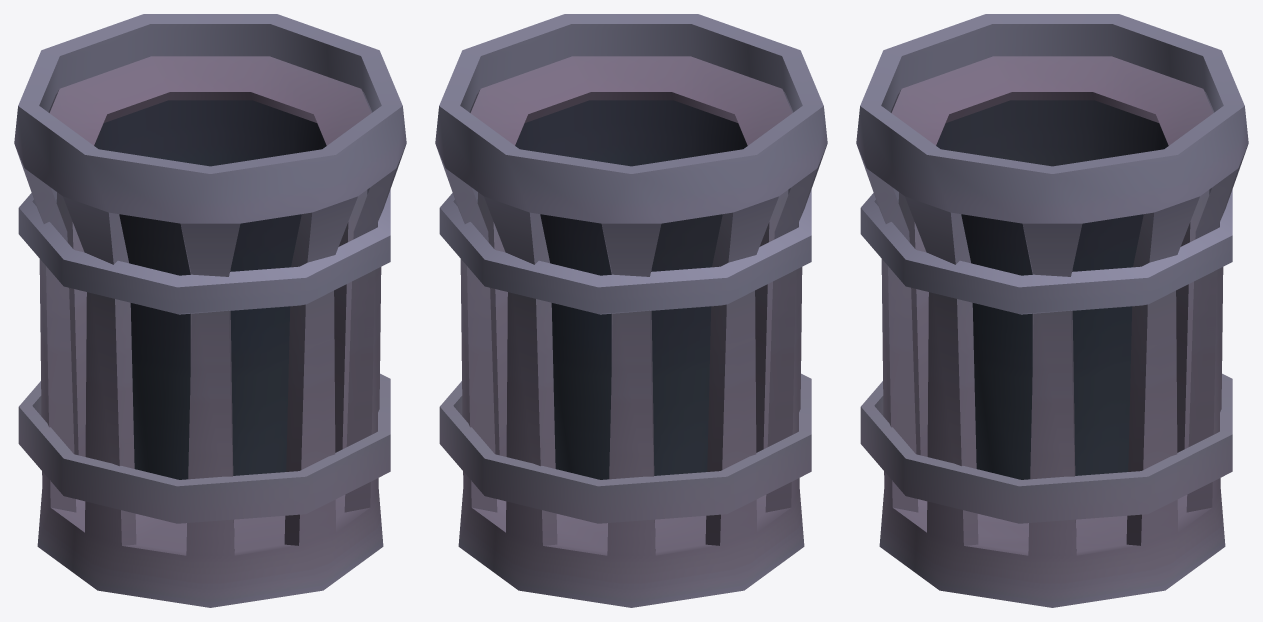
Rendered from Trashbin_1_B.fbx.
3 renders of one model, left to right at view 1: azimuth 30°, elevation 25°; view 2: azimuth 150°, elevation 25°; view 3: azimuth 270°, elevation 25°, orthographic.
Visible parts, largest first — view 1: Trashbin_1_B; view 2: Trashbin_1_B; view 3: Trashbin_1_B.
Part boxes in pixels (left/top/right/bottom): Trashbin_1_B: left=14, top=14, right=406, bottom=607; Trashbin_1_B: left=435, top=14, right=827, bottom=607; Trashbin_1_B: left=856, top=14, right=1248, bottom=607.
Bounding box in the file's own units: 44.56 × 56.04 × 45.08.
